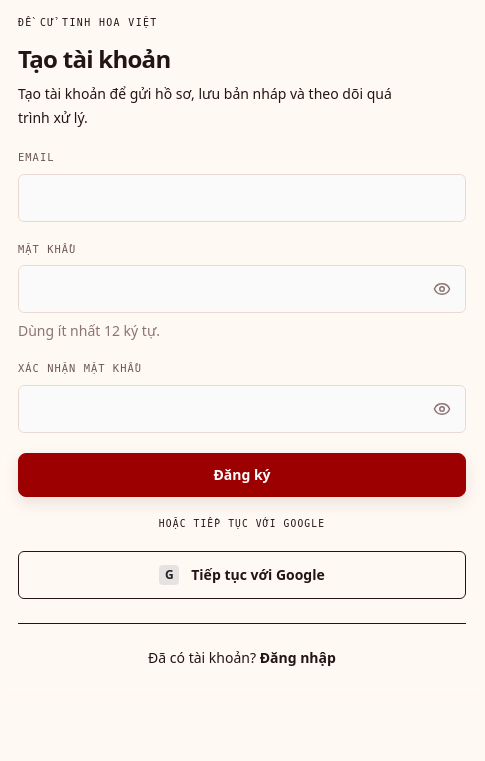
Test: RegisterForm › starts Google signup with the public account intent and shows provider errors
The image size is (485, 761).
Click the button "G Tiếp tục với Google" at (242, 575), box [18, 551, 466, 599]
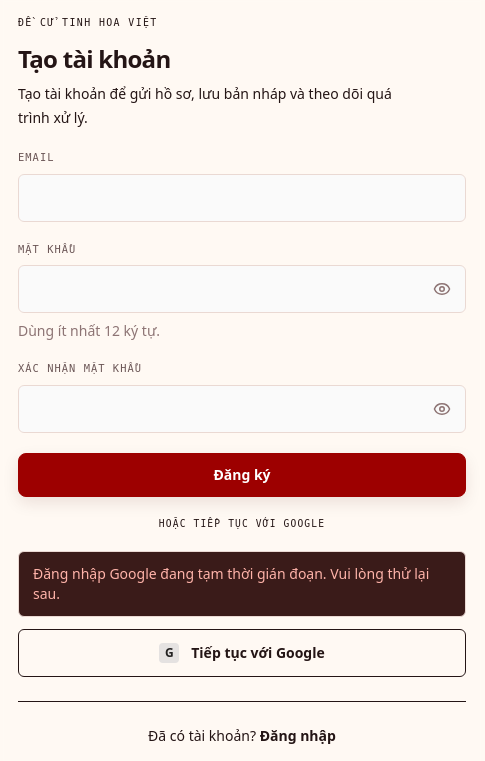
Check: the message shows "Đăng nhập Google đang tạm thời gián đoạn", box [33, 564, 429, 603]
